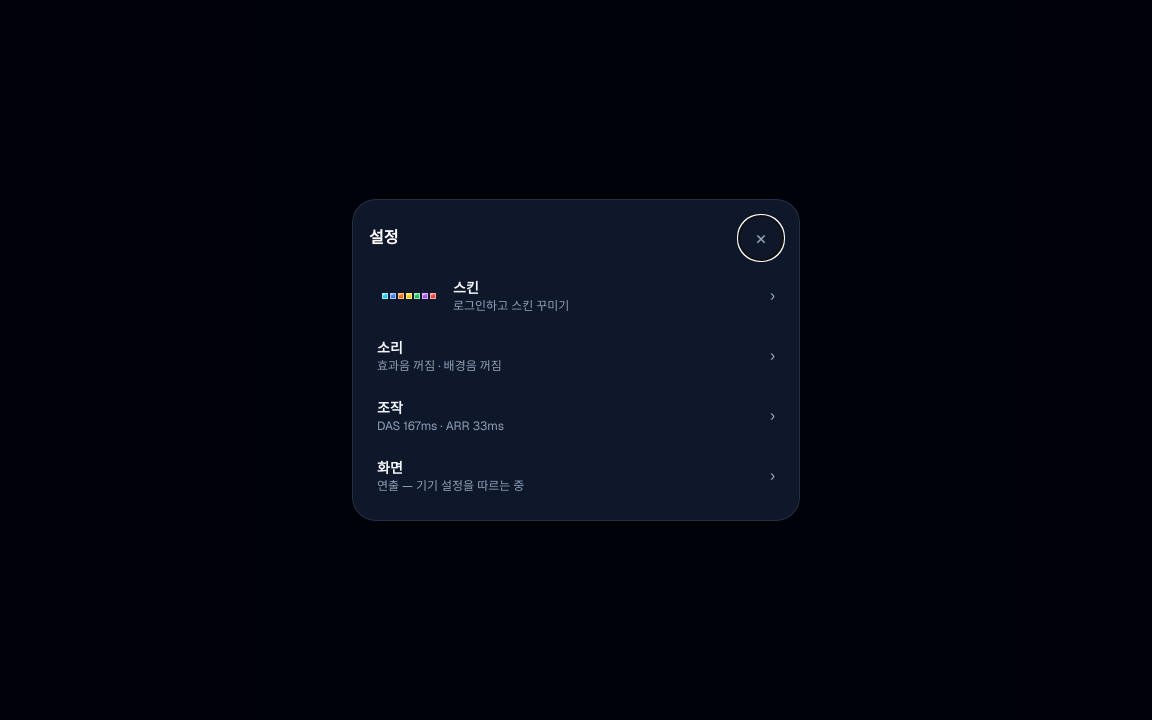
Test: 테트리스 설정 시트 (D-001·D-006) › 조작 상세 — 바꾸면 같은 스토어에 저장, ←로 목록에 돌아오면 요약도 바뀌고 누른 줄로 포커스
Click the button with test id "settings-group-controls" at (440, 426), box [369,388,783,444]
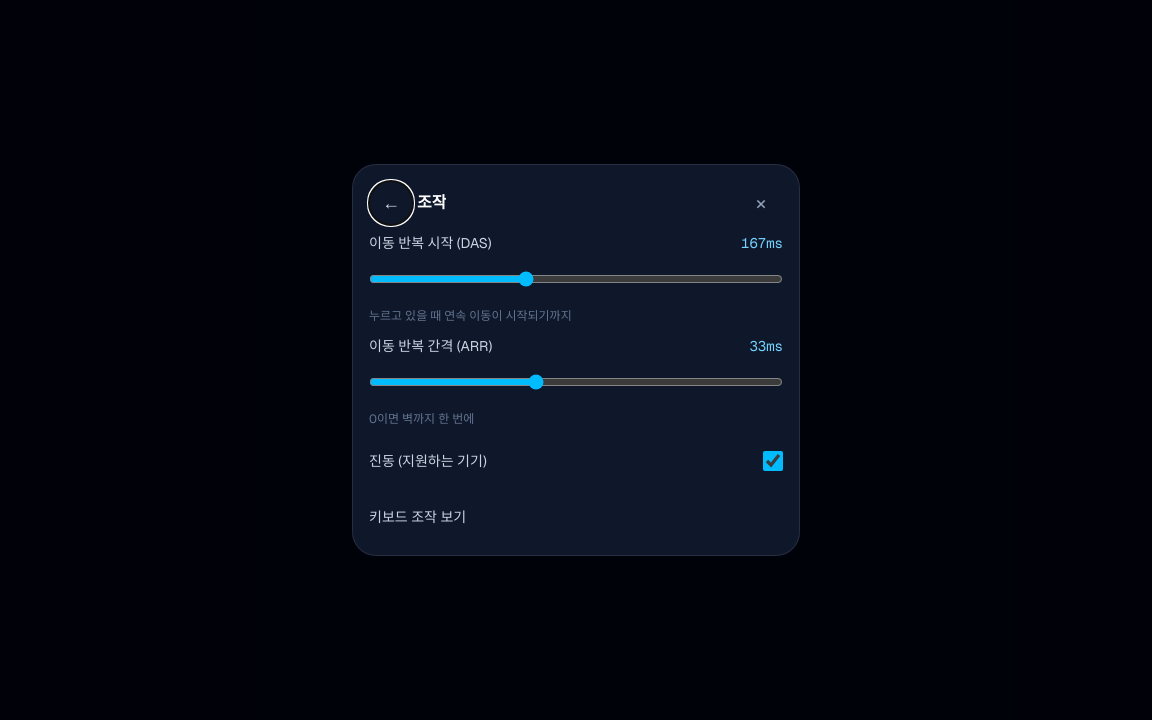
Set the slider labelled "이동 반복 시작 (DAS)" to "15" at (651, 279), box [369,257,783,301]
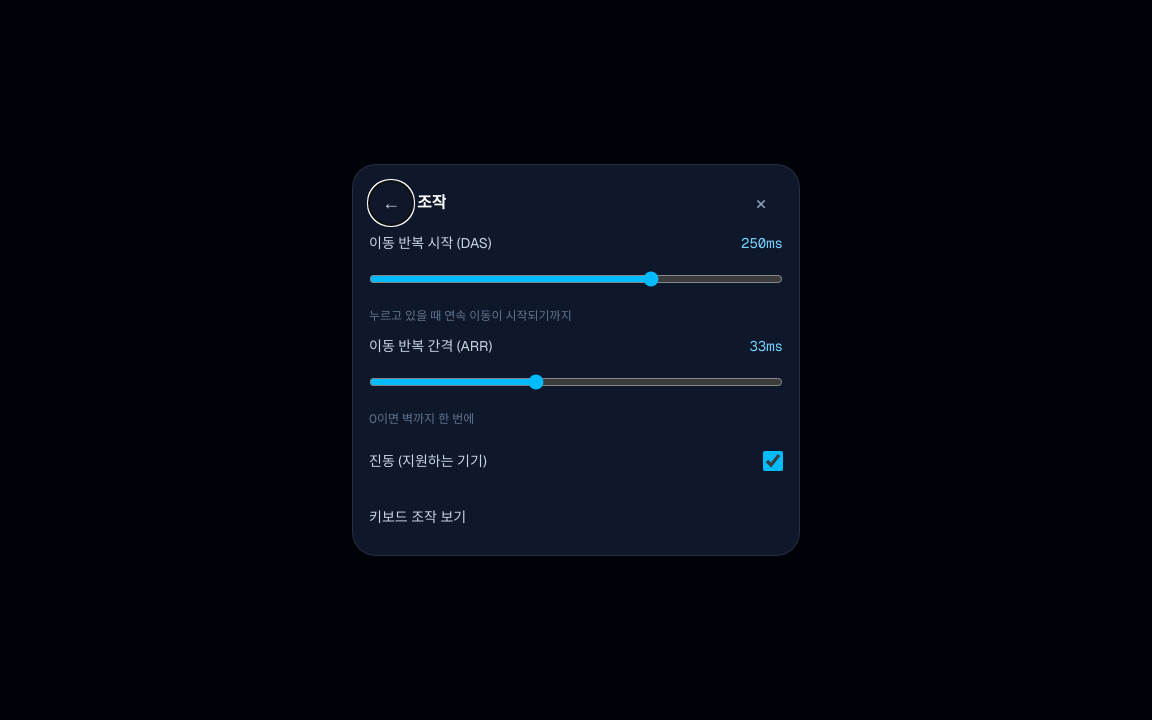
Click the button named "설정 목록으로" at (391, 203), box [369,181,413,225]
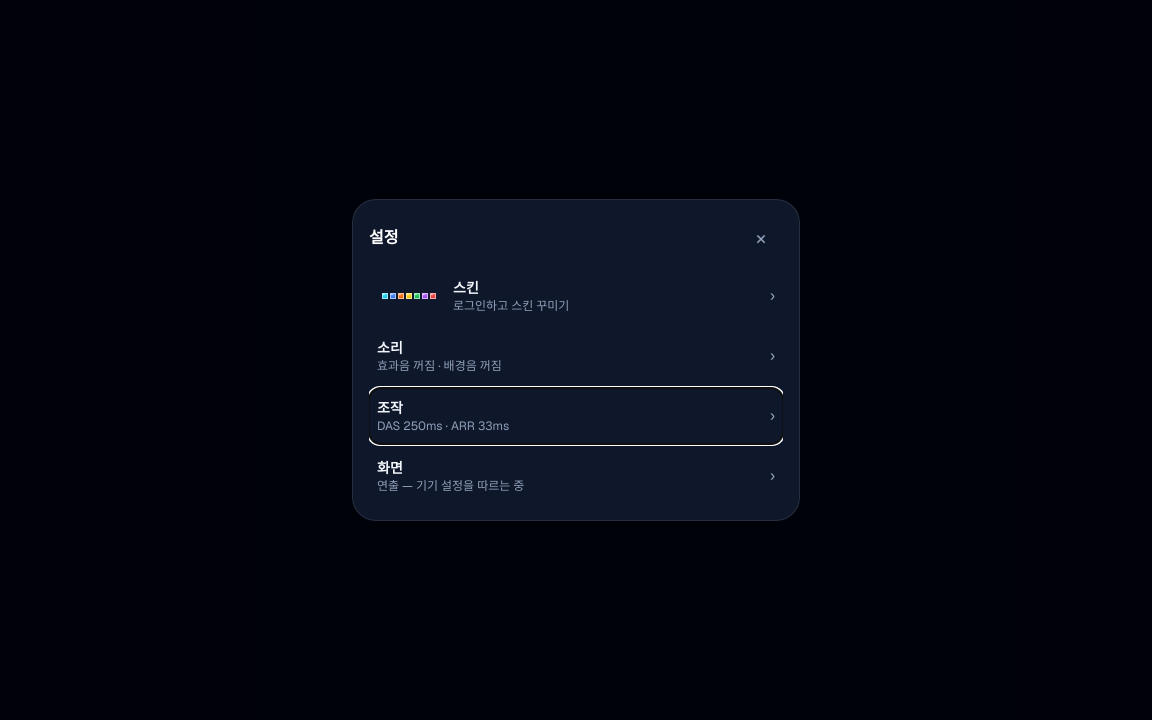
Now the dialog "설정" is shown, box [352,199,800,521]
Now the button with test id "settings-group-controls" shows "DAS 250ms", box [369,388,783,444]
